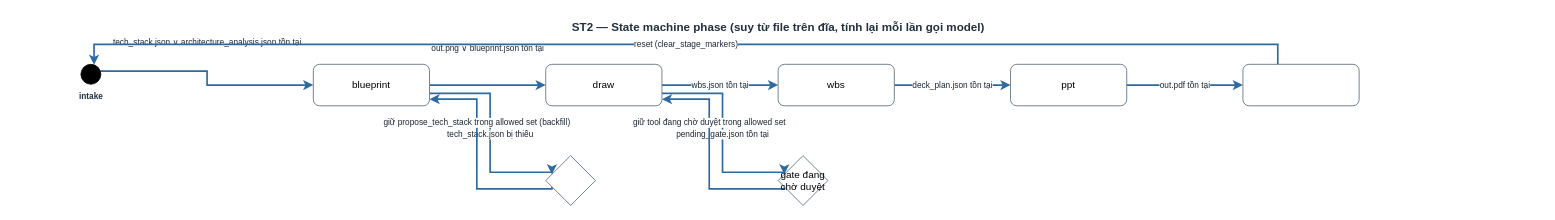
The diagram is 1555 pixels wide and 220 high, and some of its shapes have lost their labels. The box of each missing label's shape, as (x1, y1, x2, y2) in pixels:
backfill nếu thiếu file: (545, 155, 596, 205)
report: (1242, 63, 1359, 106)
